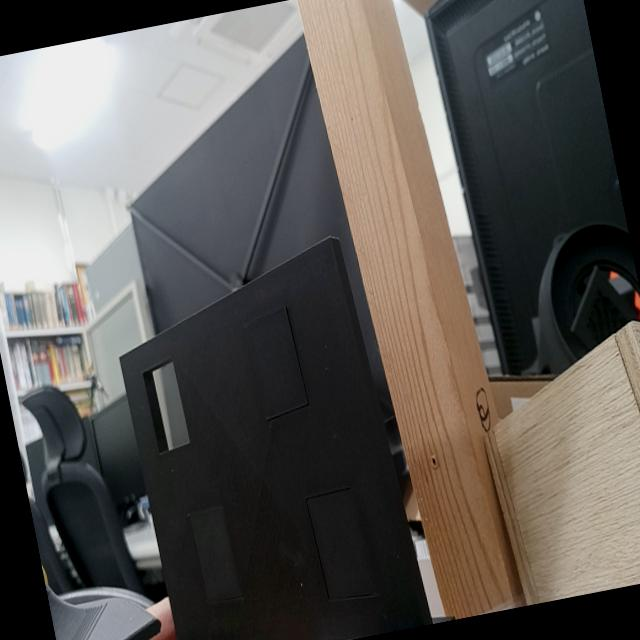Obstacle: (142, 356, 190, 454)
Wall: (119, 240, 424, 640)
